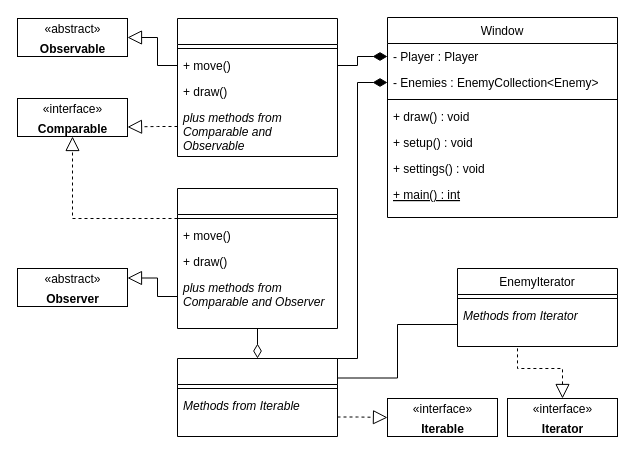
Image size: 635x457. Some labels were removed from this diagram. Here are the shapes that lost their labels. From the top down, the box of each, then its label:
(176, 18, 338, 156): Player
(176, 188, 338, 328): Enemy
(176, 358, 338, 436): EnemyCollection
